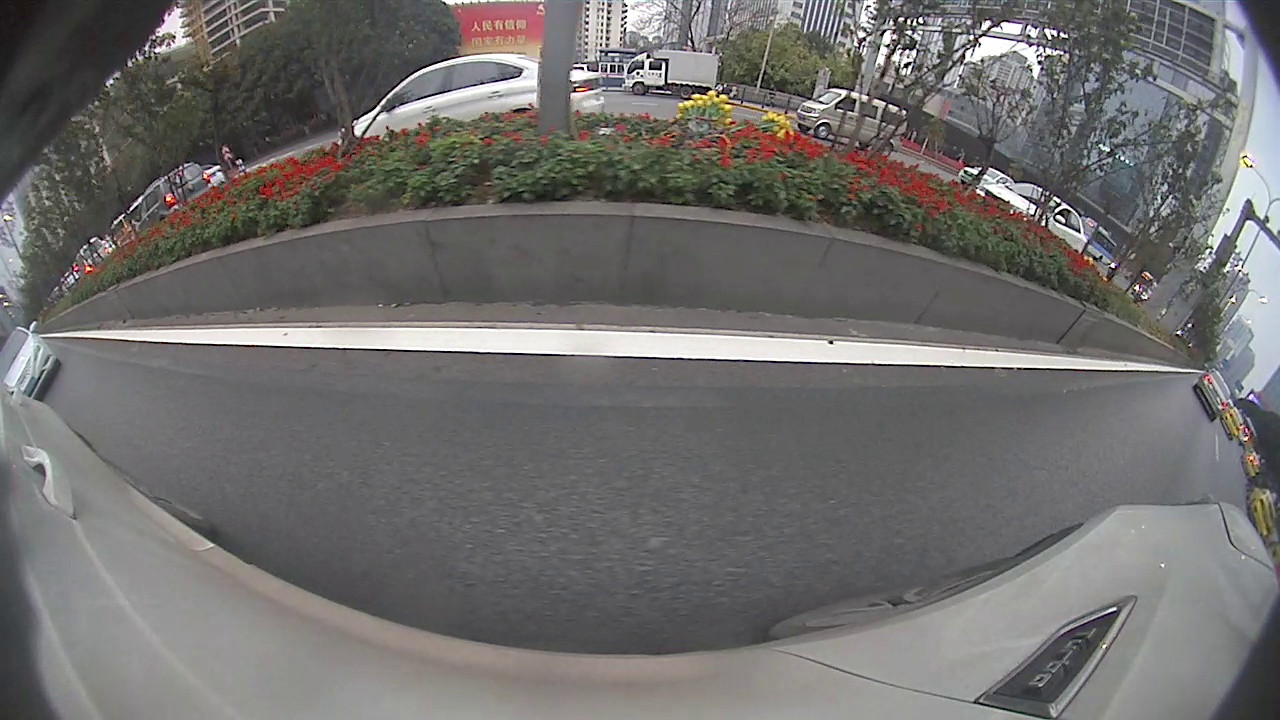car: (345, 53, 605, 139), (794, 86, 910, 158), (978, 183, 1090, 254), (128, 161, 214, 233), (1, 322, 61, 410), (1196, 365, 1233, 422), (957, 164, 1013, 192)
front: (814, 121, 831, 140), (632, 81, 647, 96)
rear: (680, 85, 694, 98)
truck: (622, 47, 723, 99)
